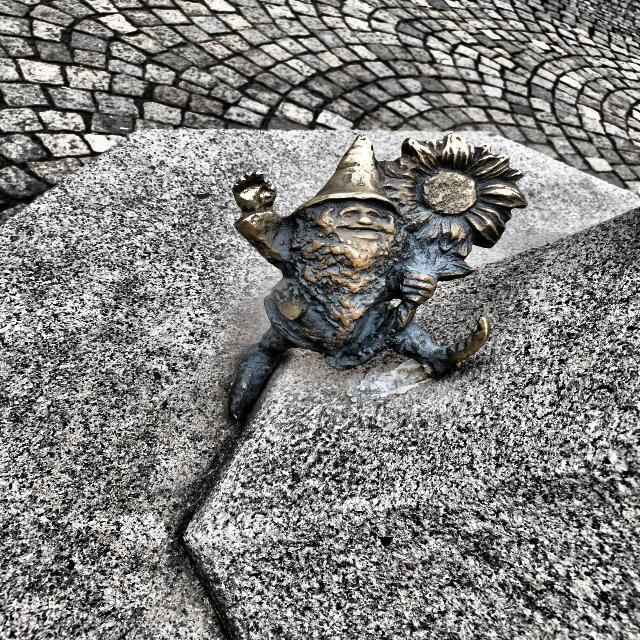Zyczliwek: (230, 134, 527, 419)
